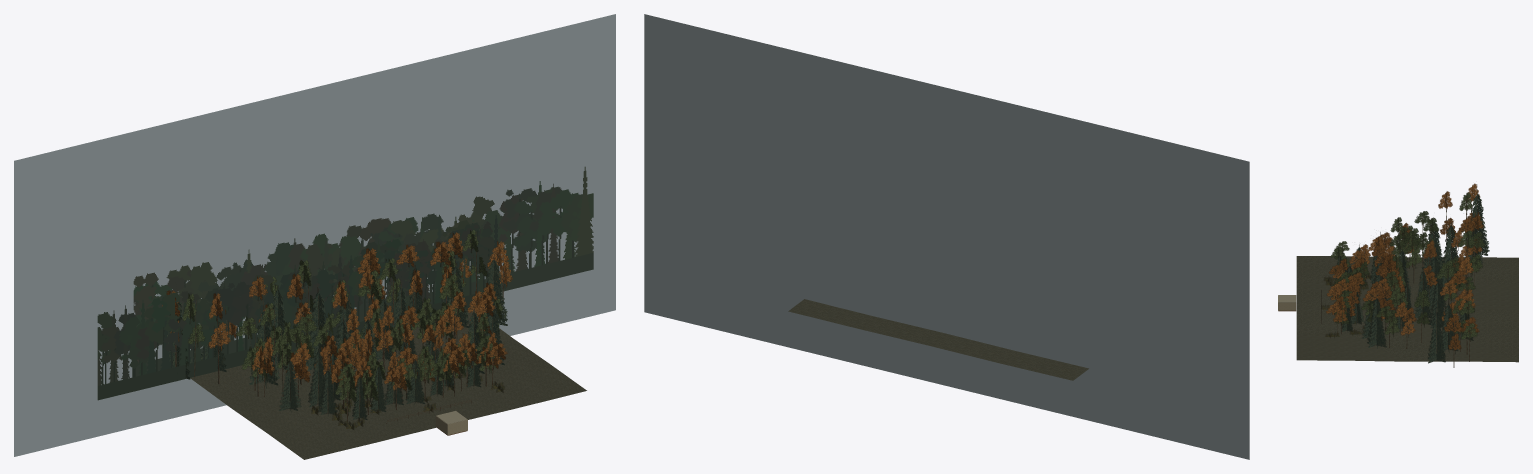
The model's file is bedroom_psx.glb.
3 views of the same model, side by side, from view 1: azimuth 30°, elevation 25°; view 2: azimuth 150°, elevation 25°; view 3: azimuth 270°, elevation 25° (orthographic). The views are drawn at different scales.
Visible parts, largest first — view 1: Sky_sky, Outside_treeline0, Outside_treeline1, Outside_wetsoil, Foliage_canopy2, Foliage_canopy1, Foliage_pinecard, Outside_bark, Foliage_underbrush; view 2: Sky_sky, Outside_wetsoil; view 3: Outside_wetsoil, Foliage_canopy2, Foliage_canopy1, Foliage_pinecard, Outside_bark, Foliage_underbrush.
Boxes of the visible parts, left/top/right/bottom form: Sky_sky: left=14, top=14, right=615, bottom=456; Outside_treeline0: left=97, top=215, right=501, bottom=400; Outside_treeline1: left=133, top=166, right=593, bottom=376; Outside_wetsoil: left=190, top=310, right=586, bottom=459; Foliage_canopy2: left=162, top=232, right=512, bottom=392; Foliage_canopy1: left=182, top=229, right=503, bottom=403; Foliage_pinecard: left=167, top=257, right=507, bottom=419; Outside_bark: left=173, top=231, right=504, bottom=421; Foliage_underbrush: left=311, top=372, right=504, bottom=429; Sky_sky: left=644, top=14, right=1249, bottom=459; Outside_wetsoil: left=788, top=299, right=1088, bottom=380; Outside_wetsoil: left=1296, top=256, right=1518, bottom=362; Foliage_canopy2: left=1326, top=183, right=1484, bottom=353; Foliage_canopy1: left=1330, top=192, right=1485, bottom=341; Foliage_pinecard: left=1334, top=194, right=1489, bottom=363; Outside_bark: left=1337, top=189, right=1477, bottom=367; Foliage_underbrush: left=1321, top=273, right=1382, bottom=337.
Bounding box in the file's own units: 170 × 80 × 77.98.
45 materials, 43 textured.
